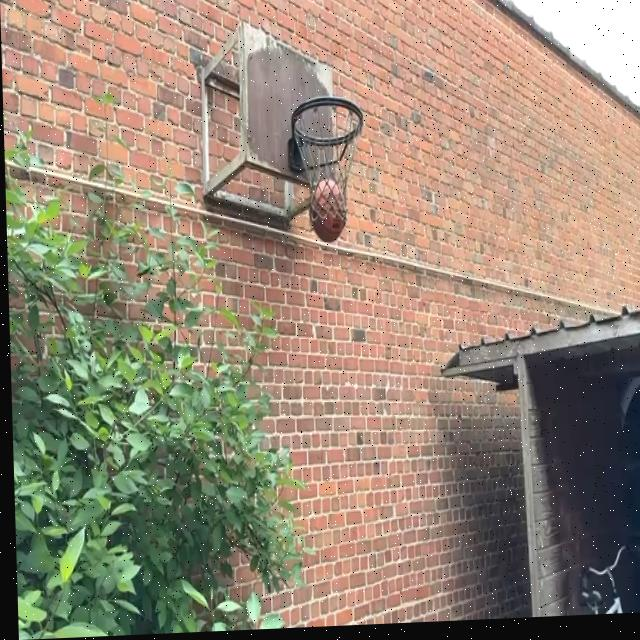Goal: (308, 177, 346, 242)
